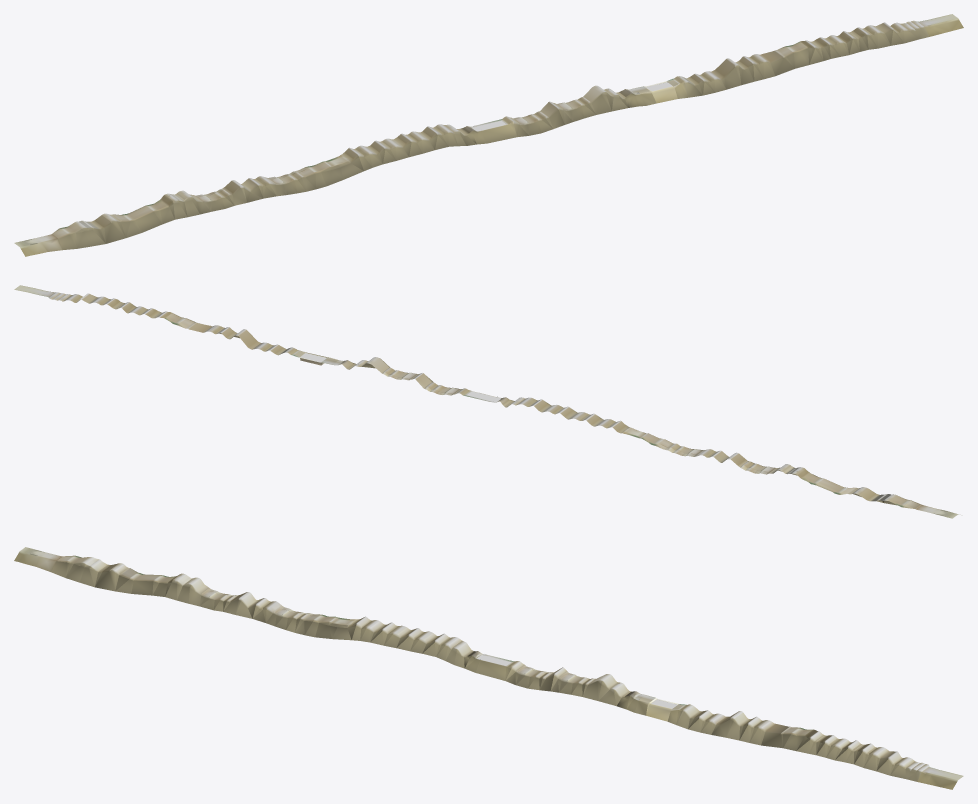
File: Beach_09.fbx
The picture shows the model from 3 angles, top to bottom: view 1: azimuth 30°, elevation 25°; view 2: azimuth 150°, elevation 25°; view 3: azimuth 330°, elevation 25°; orthographic projection.
Visible parts, largest first — view 1: Road_01; view 2: Road_01; view 3: Road_01.
Boxes of the visible parts, box(x1,y1,x2,y2) form: Road_01: box(14, 14, 963, 256); Road_01: box(14, 285, 958, 518); Road_01: box(14, 547, 963, 789).
Bounding box in the file's own units: 125704 × 3412 × 3834.
